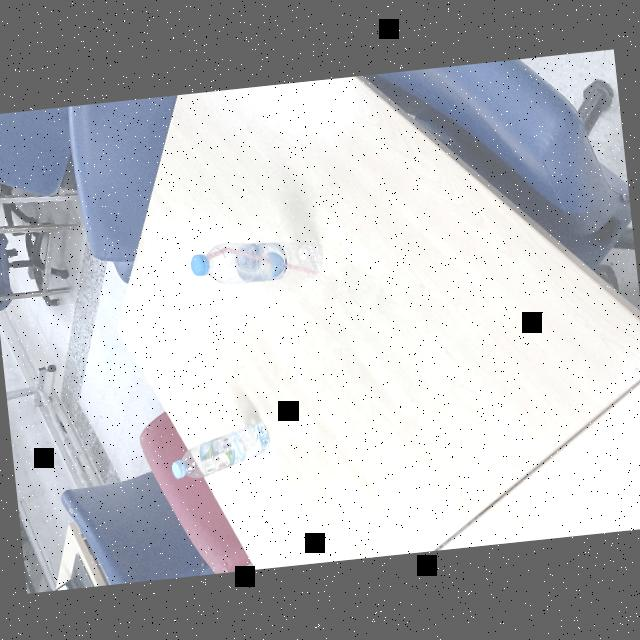plastic_bottle: (188, 230, 328, 292), (166, 422, 274, 481)
